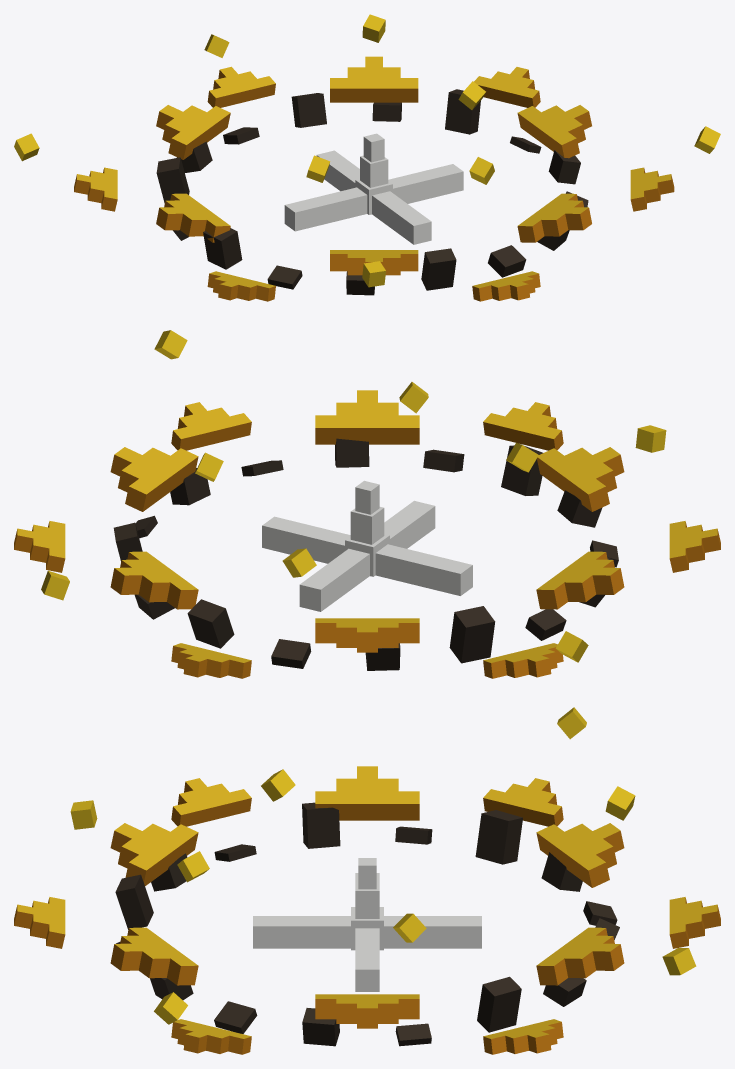
Rendered from fx_heavyblade.glb.
The picture shows the model from 3 angles, top to bottom: view 1: azimuth 30°, elevation 25°; view 2: azimuth 150°, elevation 25°; view 3: azimuth 270°, elevation 25°; orthographic projection. The views are drawn at different scales.
Parts seen in each view (by area): view 1: heavyblade_heavy_blade_impact_Mesh1; view 2: heavyblade_heavy_blade_impact_Mesh1; view 3: heavyblade_heavy_blade_impact_Mesh1.
Part boxes in pixels (box(x1,y1,x2,y2)): heavyblade_heavy_blade_impact_Mesh1: box(14, 14, 720, 301); heavyblade_heavy_blade_impact_Mesh1: box(14, 330, 720, 678); heavyblade_heavy_blade_impact_Mesh1: box(14, 707, 720, 1054).
Bounding box in the file's own units: 10 × 1.93 × 9.78.
